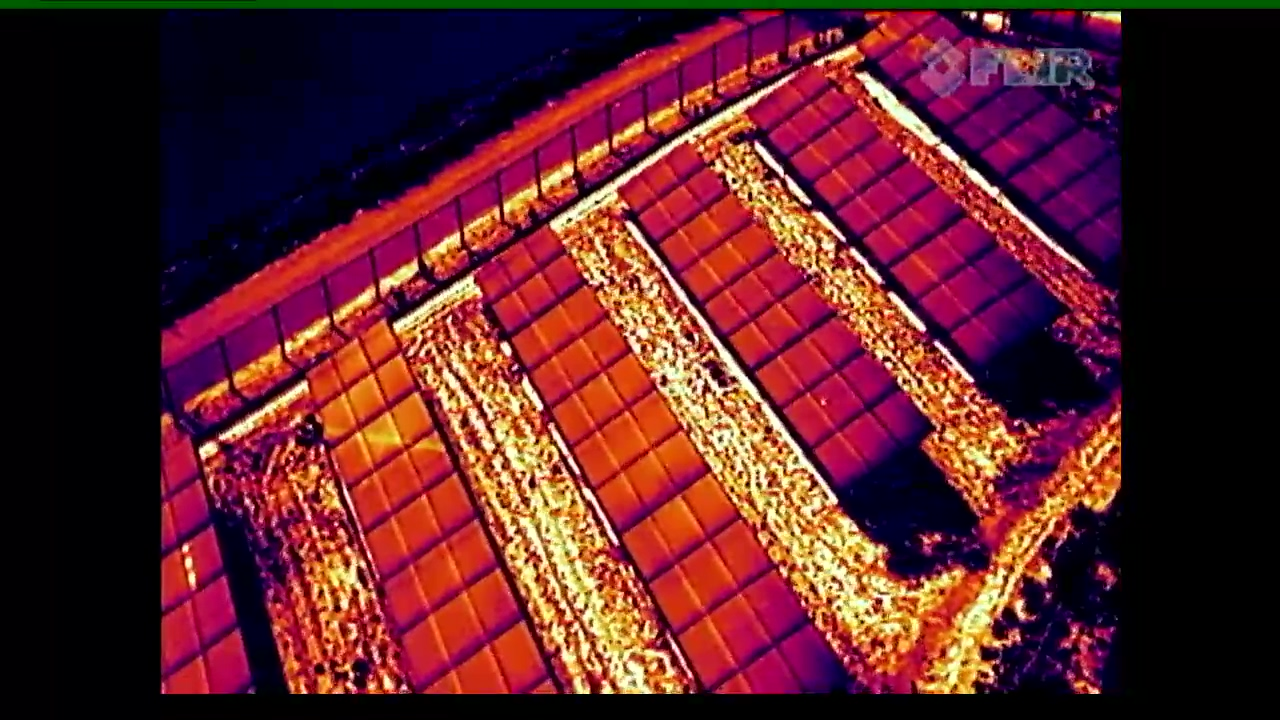hotspot: (776, 353, 902, 446)
